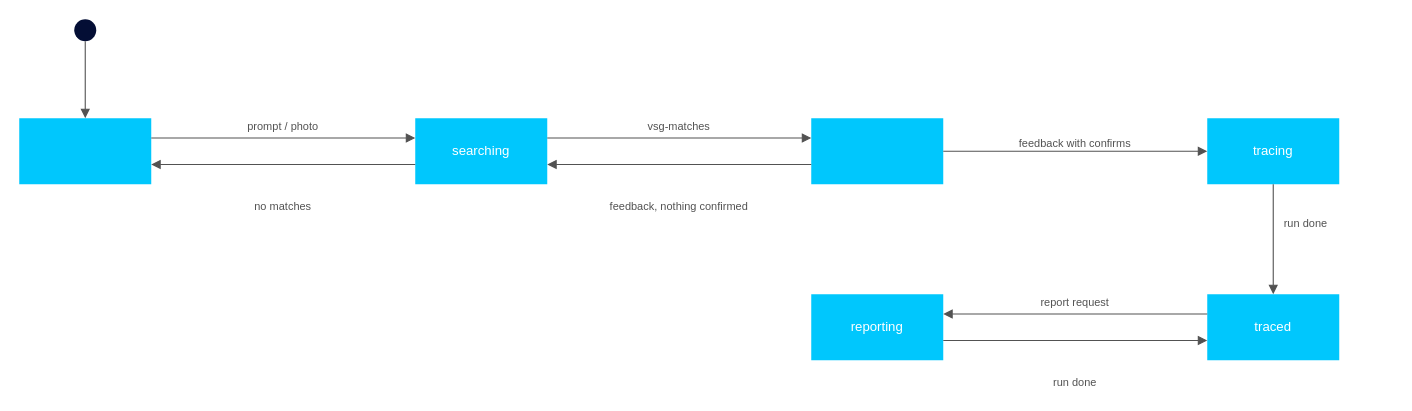
Some shapes in this 1412 by 411 pixel diagram are drawn without their labels. The centre of each missing label's shape, as x and y in pixels:
idle: the point at 85,151
validating: the point at 877,151
